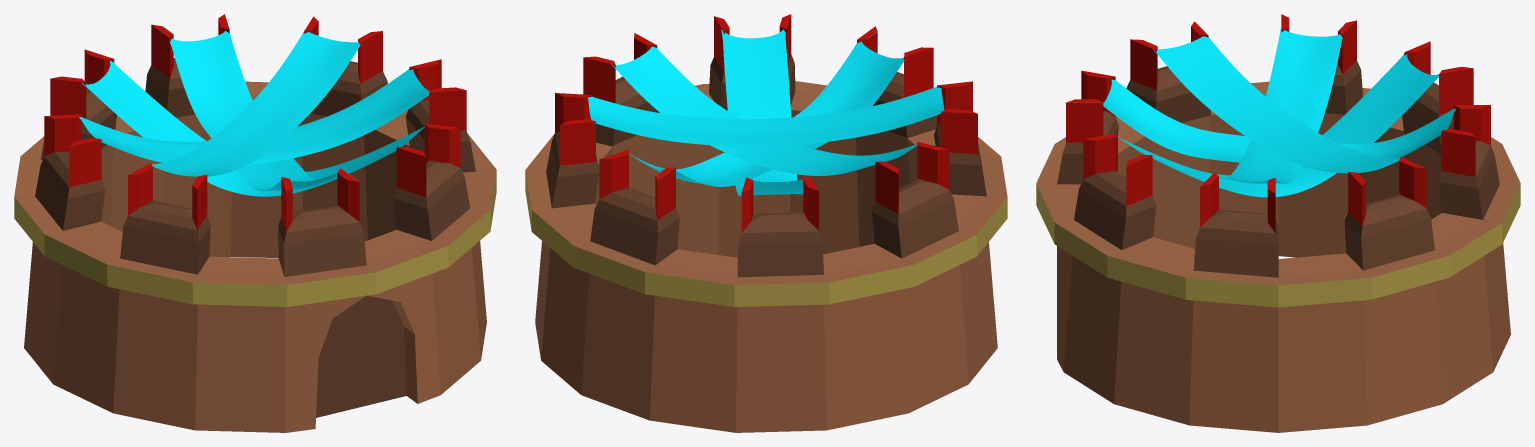
Rendered from basun-forepost.glb.
3 views of the same model, side by side, from view 1: azimuth 30°, elevation 25°; view 2: azimuth 150°, elevation 25°; view 3: azimuth 270°, elevation 25° (orthographic).
Visible parts, largest first — view 1: caravanserai, fabric.002, fabric.003, fabric, fabric.001; view 2: caravanserai, fabric.002, fabric.003, fabric.001, fabric; view 3: caravanserai, fabric.002, fabric.003, fabric.001, fabric.
Part boxes in pixels (bbox=[...]): caravanserai: bbox=[14, 14, 496, 432]; fabric.002: bbox=[152, 32, 360, 176]; fabric.003: bbox=[79, 69, 430, 165]; fabric: bbox=[169, 31, 337, 191]; fabric.001: bbox=[82, 61, 424, 196]; caravanserai: bbox=[525, 14, 1007, 432]; fabric.002: bbox=[588, 87, 944, 146]; fabric.003: bbox=[611, 46, 917, 175]; fabric.001: bbox=[721, 29, 803, 196]; fabric: bbox=[629, 41, 905, 186]; caravanserai: bbox=[1036, 14, 1520, 432]; fabric.002: bbox=[1153, 36, 1399, 173]; fabric.003: bbox=[1219, 28, 1342, 183]; fabric.001: bbox=[1117, 51, 1438, 197]; fabric: bbox=[1103, 79, 1456, 168].
Size of the model in its own units: 17.5 by 9.21 by 17.5.
Materials: 2 (1 with a texture image).
